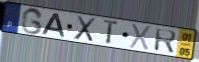A: (41, 12, 67, 39)
G: (19, 7, 45, 36)
R: (153, 28, 178, 55)
T: (102, 19, 121, 46)
X: (128, 22, 154, 52), (72, 15, 97, 44)
